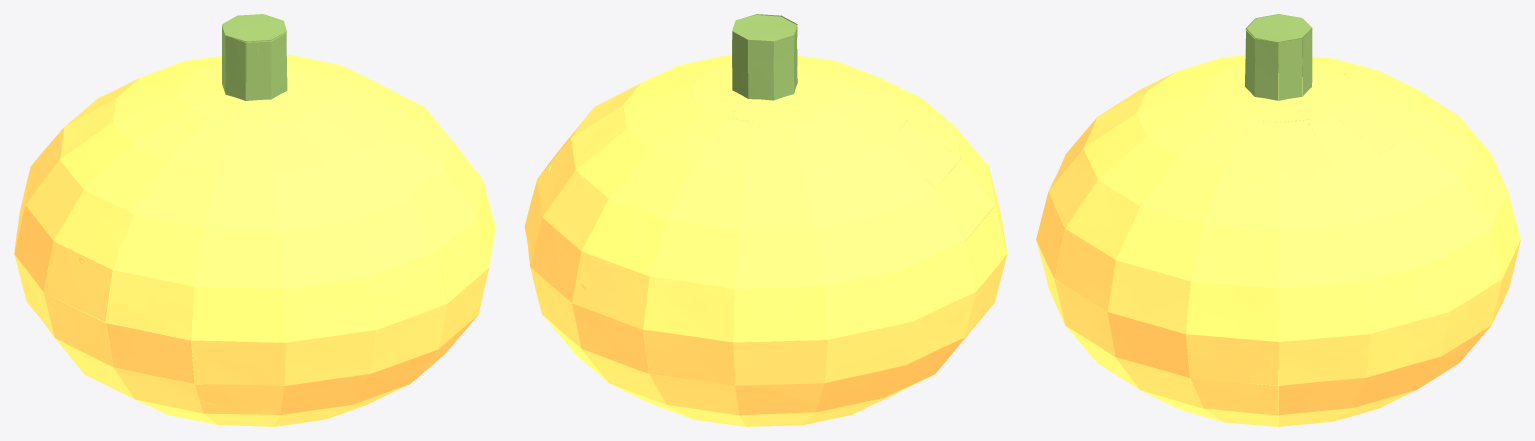
Rendered from pumpkin.glb.
3 renders of one model, left to right at view 1: azimuth 30°, elevation 25°; view 2: azimuth 150°, elevation 25°; view 3: azimuth 270°, elevation 25°, orthographic.
Visible parts, largest first — view 1: Pumpkin; view 2: Pumpkin; view 3: Pumpkin.
Boxes of the visible parts, x1=… form: Pumpkin: x1=14, y1=14, x2=495, y2=426; Pumpkin: x1=524, y1=14, x2=1007, y2=426; Pumpkin: x1=1036, y1=14, x2=1520, y2=426.
Size of the model in its own units: 2.3 by 1.93 by 2.3.
